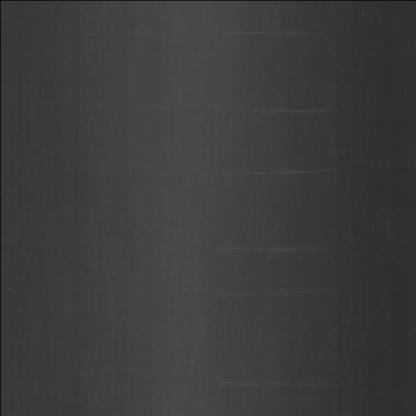waist_folding: (233, 37, 355, 382)
